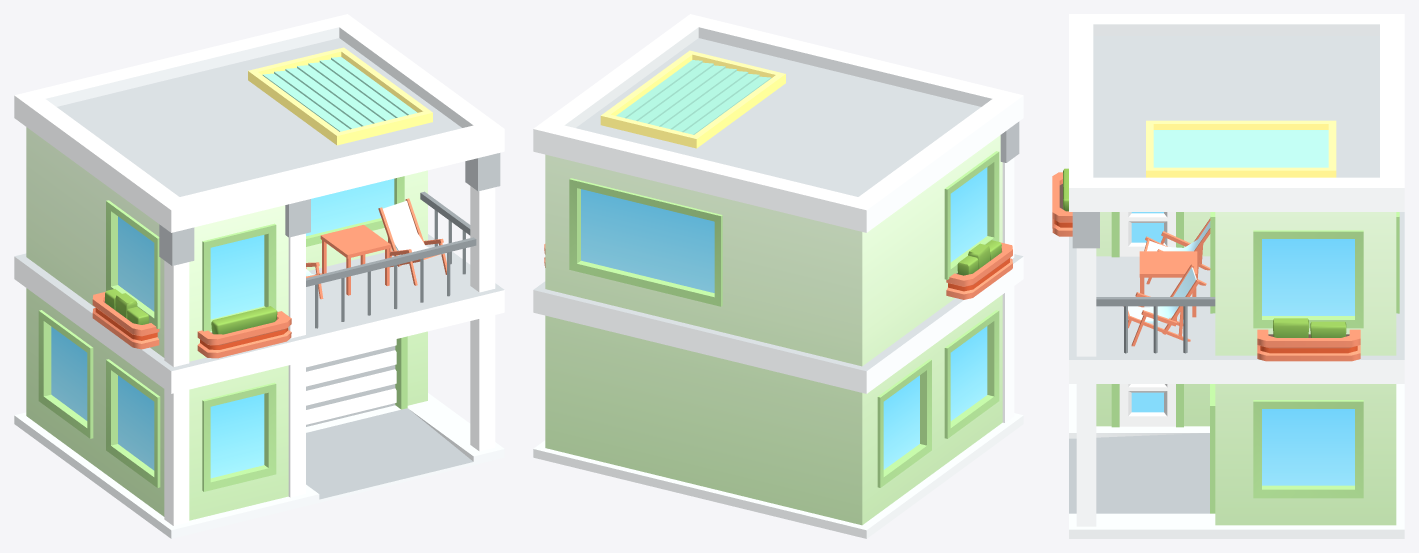
The model's file is Building_Living_14.glb.
3 views of the same model, side by side, from view 1: azimuth 30°, elevation 25°; view 2: azimuth 150°, elevation 25°; view 3: azimuth 270°, elevation 25° (orthographic). The views are drawn at different scales.
Visible parts, largest first — view 1: Building_Living_14; view 2: Building_Living_14; view 3: Building_Living_14.
Boxes of the visible parts, x1,y1,x2,y2 form: Building_Living_14: [14, 14, 504, 538]; Building_Living_14: [533, 14, 1023, 538]; Building_Living_14: [1052, 14, 1404, 538].
Size of the model in its own units: 8.69 by 7.56 by 6.87.
1 material, 1 textured.
